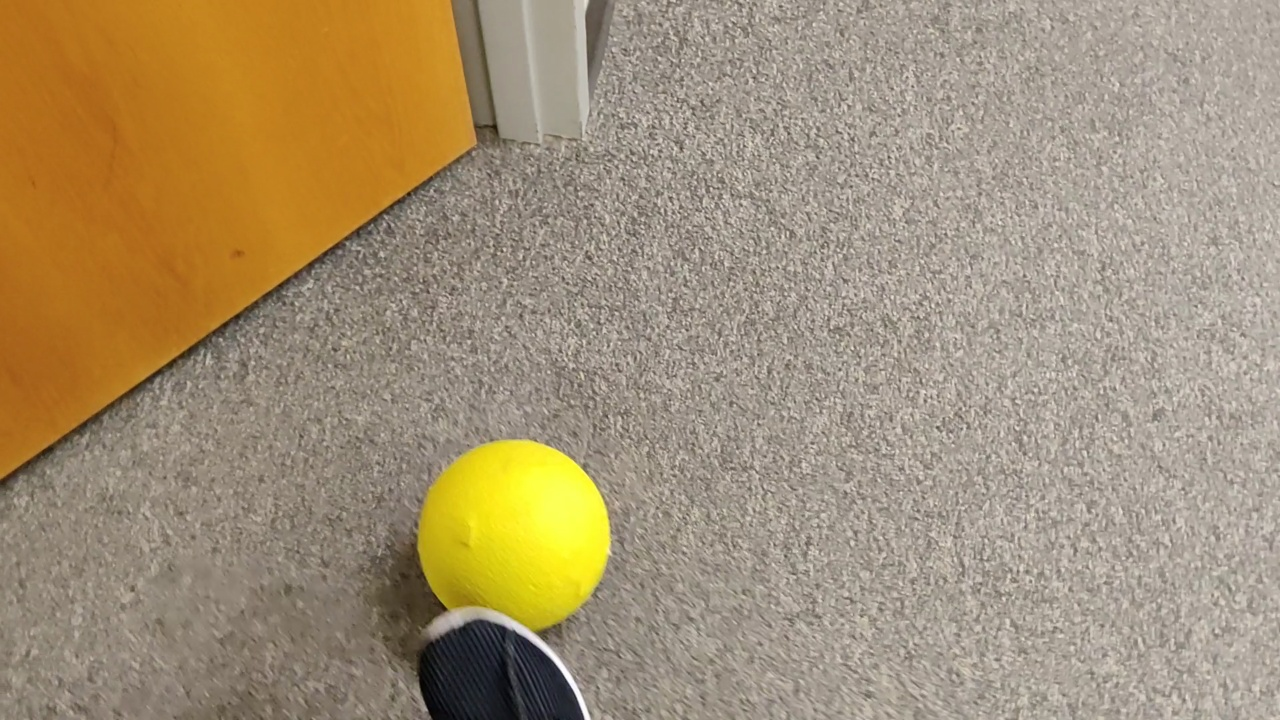Ball: (420, 440, 612, 630)
